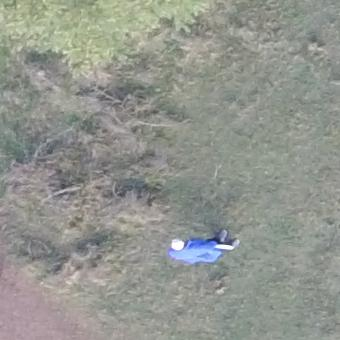human: (167, 229, 239, 266)
